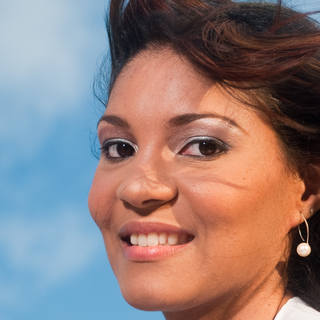eye: (172, 131, 235, 167), (96, 134, 143, 166)
